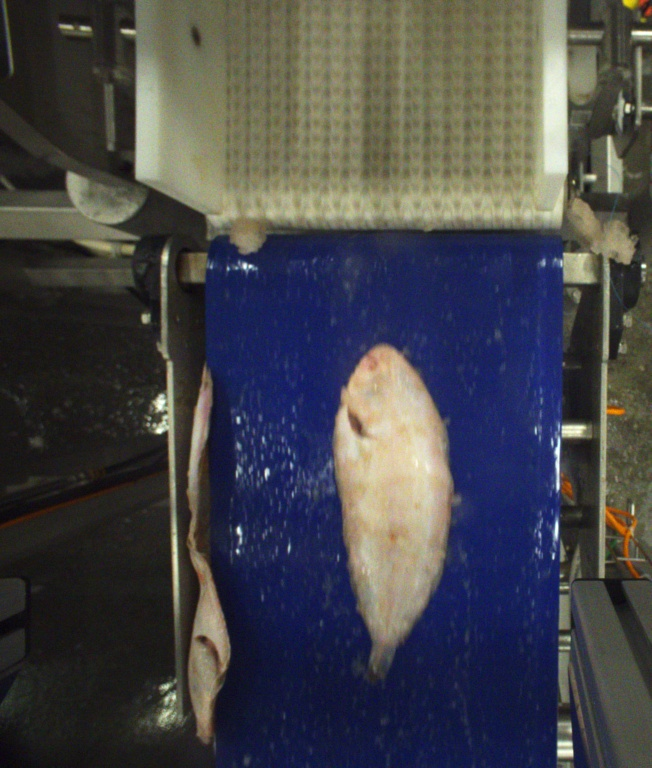SOL: (334, 343, 453, 688)
